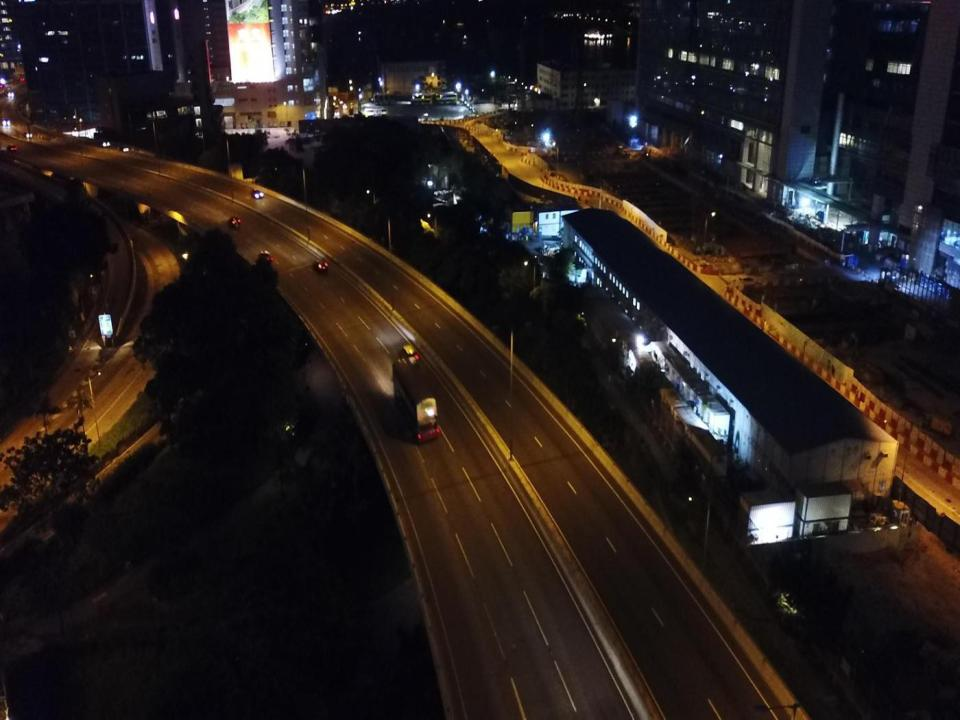bus: (391, 357, 440, 443), (365, 107, 388, 118), (410, 93, 433, 104), (434, 93, 456, 104)
car: (312, 260, 329, 274), (258, 250, 273, 264), (228, 216, 241, 228), (250, 188, 264, 198), (2, 118, 10, 127), (100, 140, 110, 147), (6, 145, 17, 151), (119, 145, 128, 152), (22, 132, 31, 138), (7, 91, 14, 97), (342, 103, 347, 109), (20, 77, 25, 81), (0, 83, 5, 87)
van: (399, 346, 421, 369)
